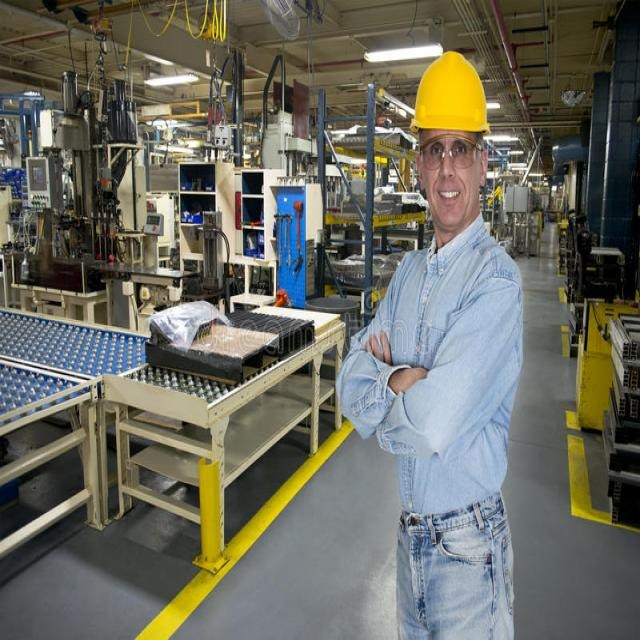Safety-Helmet: (410, 47, 493, 138)
